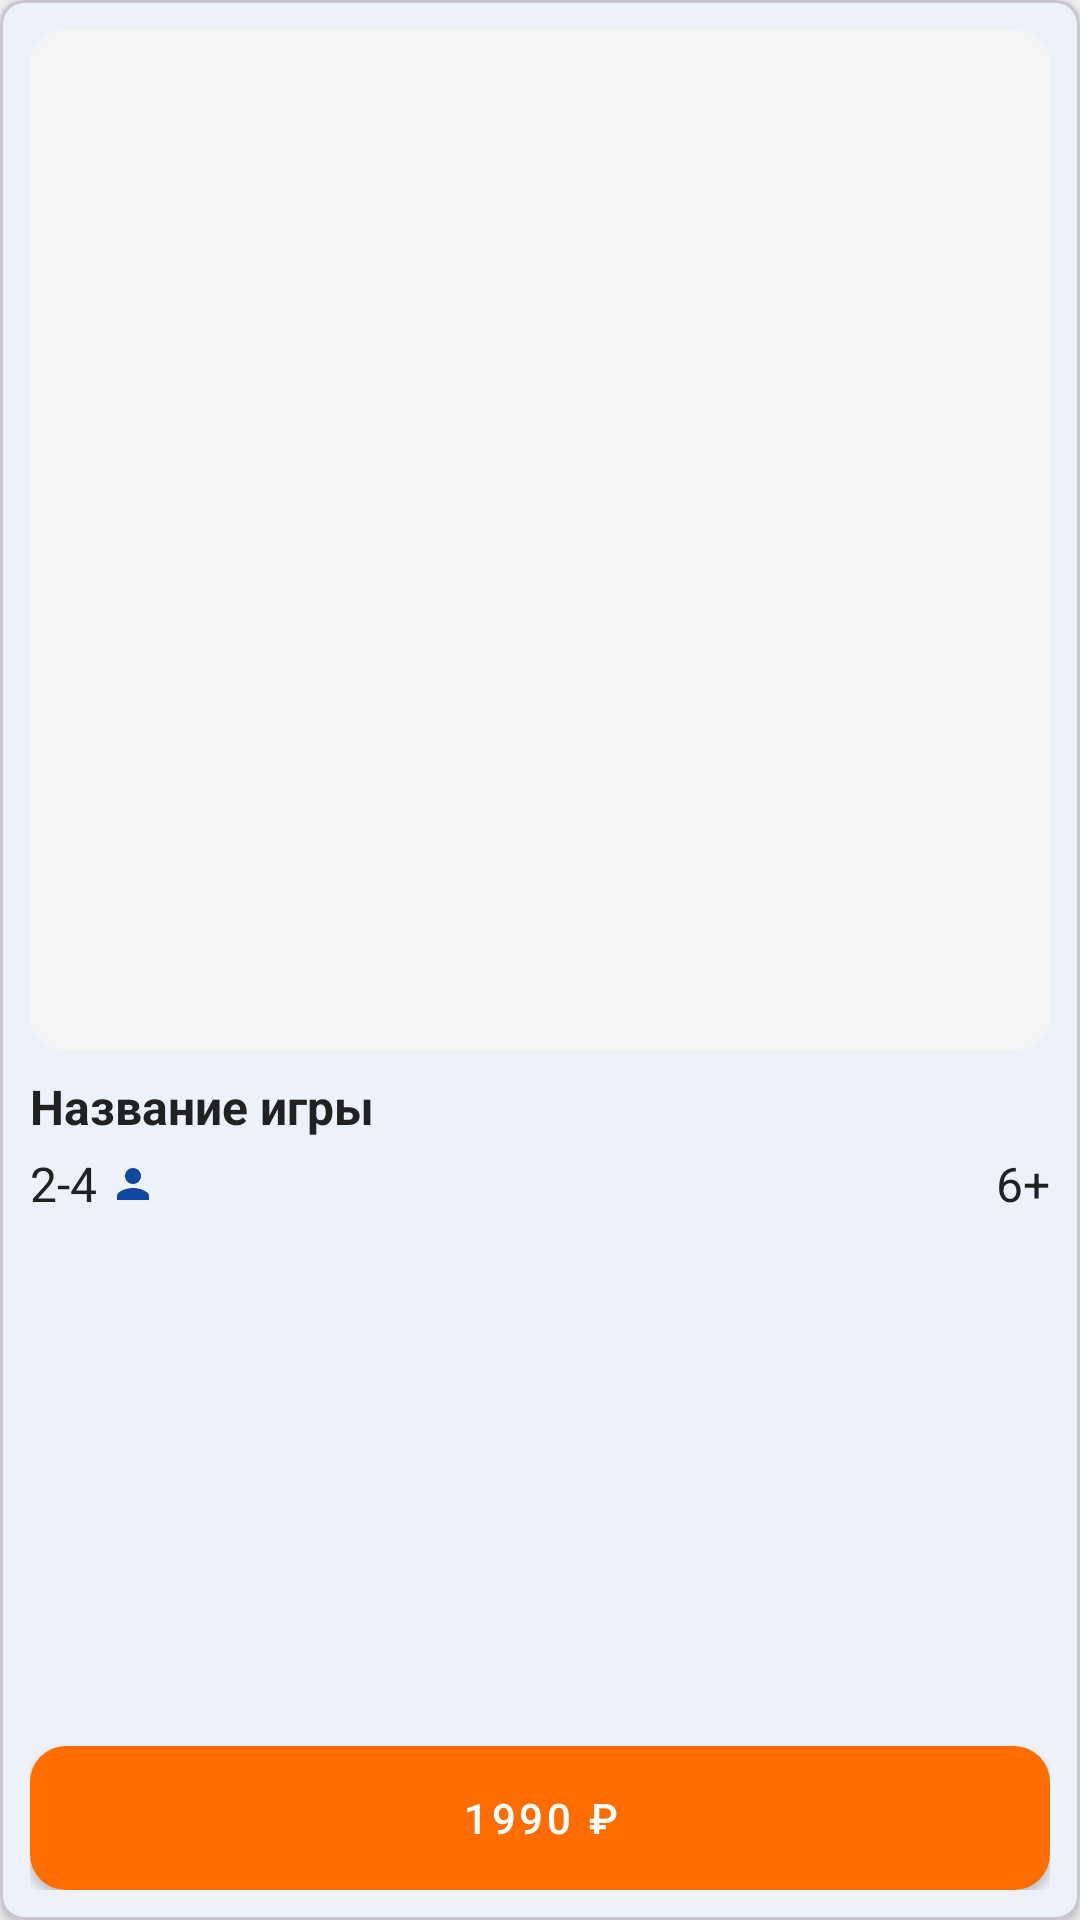

Point at icon controls on the screen. Image size 1080 x 1920, points as (x=x, y=y).
person: (x=133, y=1184)
